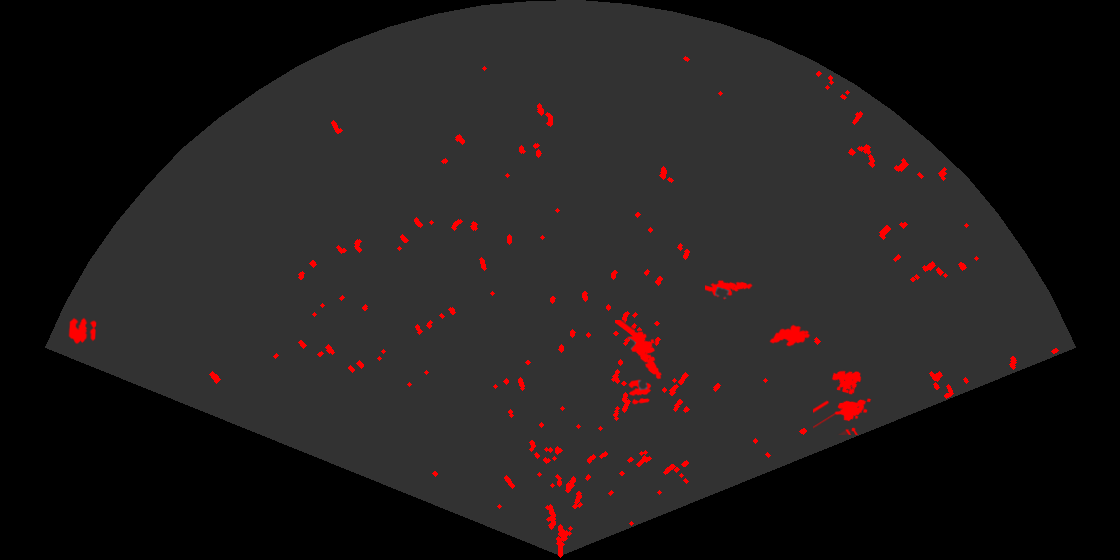AUV: (768, 323, 812, 348)
ball: (67, 316, 98, 346), (626, 378, 653, 406)
cage: (813, 369, 873, 435)
frogman: (615, 320, 663, 381), (705, 278, 753, 301)
